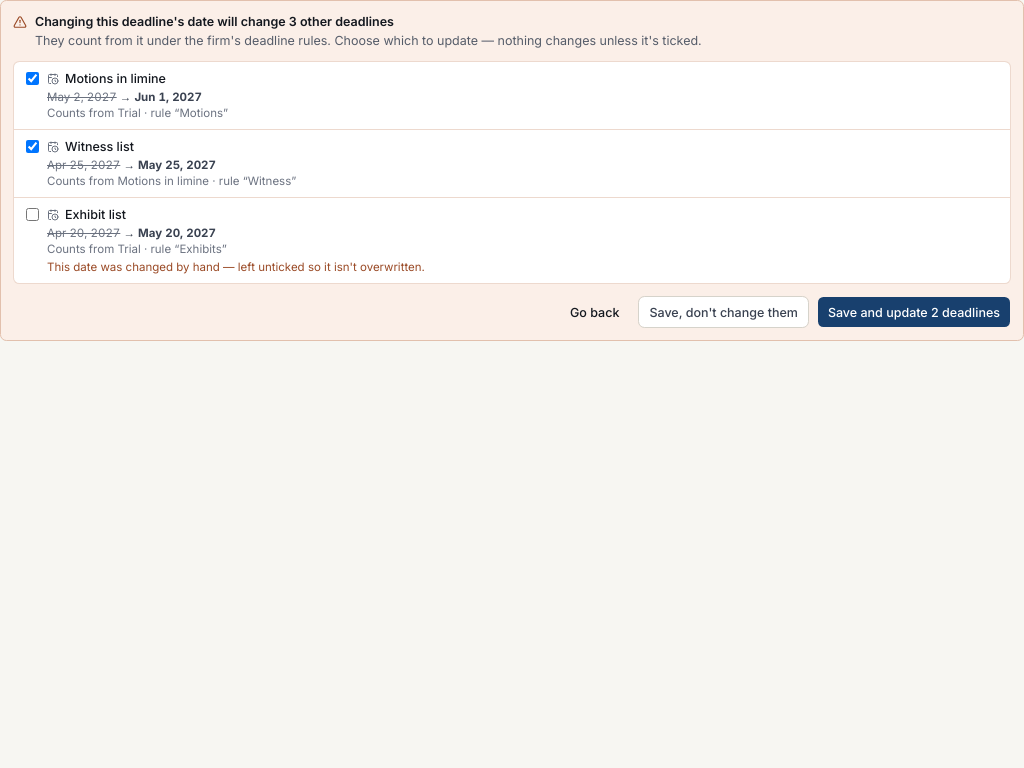
Test case: CascadeConfirm › unticking an anchor disables what counts from it
Click the checkbox named "Update Motions in limine": [32, 78] box [26,72,39,85]
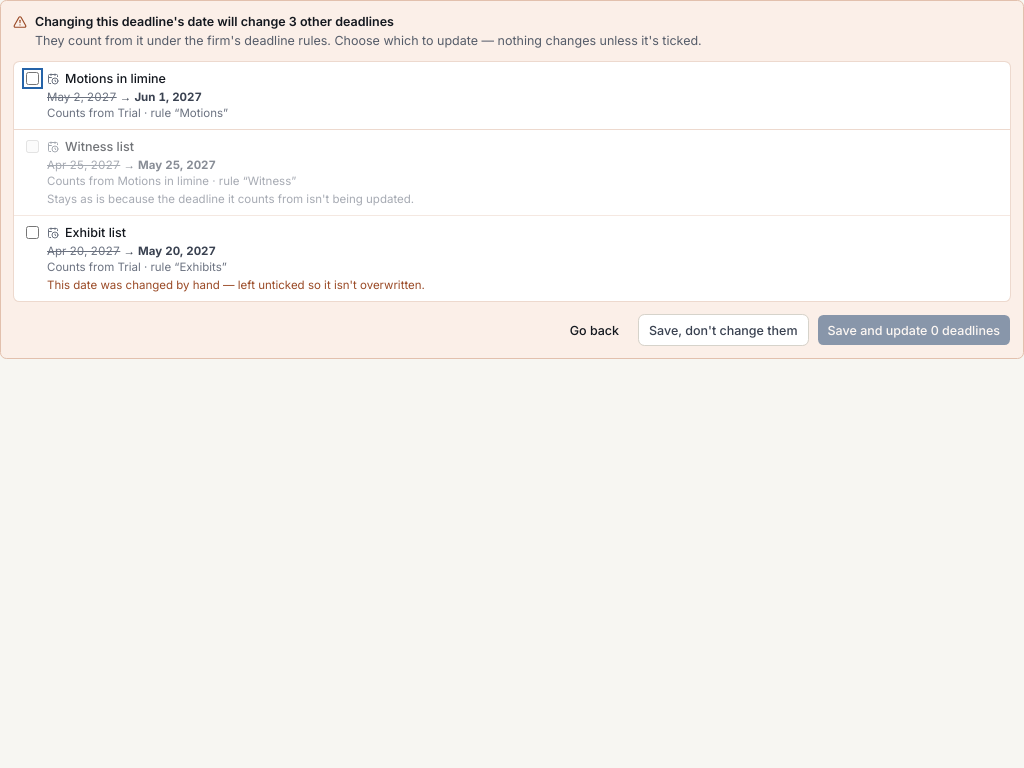
Expected: the checkbox named "Update Witness list" is disabled, [26,140,39,153]
Expected: the checkbox named "Update Witness list" is not checked, [26,140,39,153]
Expected: the button "Save and update 0 deadlines" is disabled, [816,314,1011,346]
